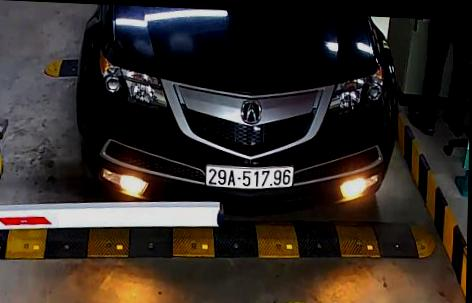License_Plate: (204, 159, 295, 193)
